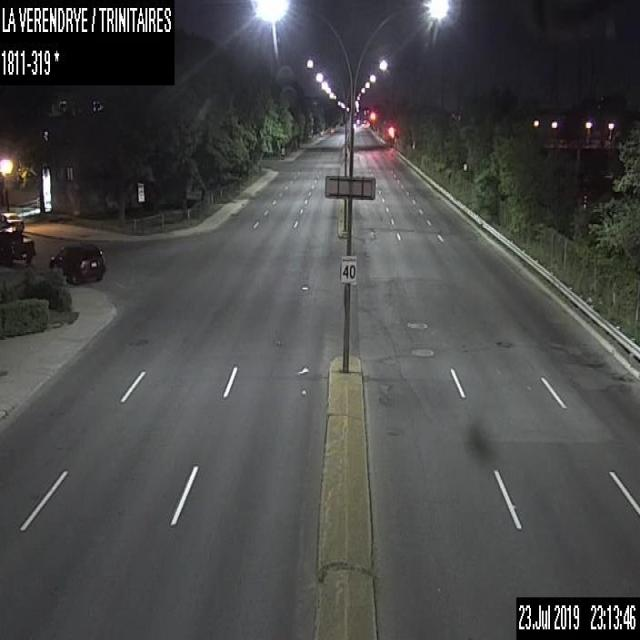vehicle: (46, 242, 104, 284), (0, 225, 35, 266), (0, 211, 24, 232)
